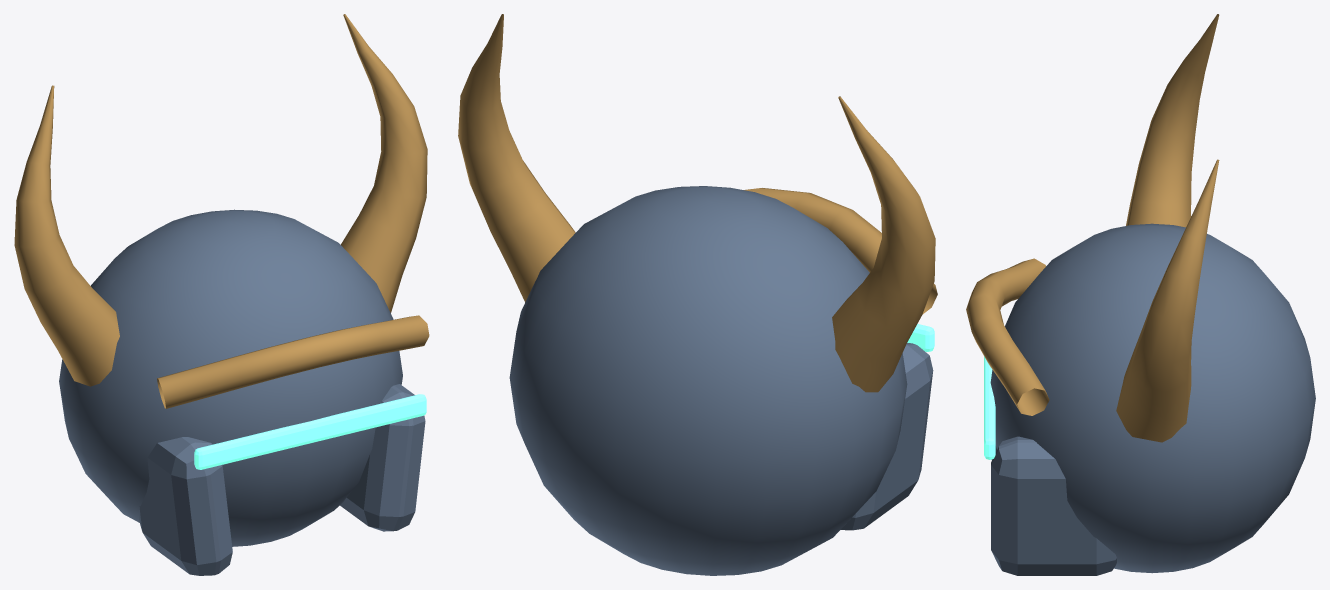
The model's file is ArmorHead.fbx.
The picture shows the model from 3 angles, left to right: view 1: azimuth 30°, elevation 25°; view 2: azimuth 150°, elevation 25°; view 3: azimuth 270°, elevation 25°; orthographic projection. The views are drawn at different scales.
Parts seen in each view (by area): view 1: Helm dome_export, Swept helm wings_export, Swept helm wings.001_export, Cheek plate_export, Brow crest_export, Cheek plate.001_export, Visor slit_export; view 2: Helm dome_export, Swept helm wings_export, Swept helm wings.001_export, Cheek plate_export, Brow crest_export; view 3: Helm dome_export, Cheek plate.001_export, Swept helm wings.001_export, Swept helm wings_export, Brow crest_export, Visor slit_export.
Part boxes in pixels (x1=…): Helm dome_export: x1=59, y1=209, x2=402, y2=546; Swept helm wings_export: x1=14, y1=85, x2=119, y2=386; Swept helm wings.001_export: x1=341, y1=14, x2=427, y2=312; Cheek plate_export: x1=139, y1=437, x2=232, y2=575; Brow crest_export: x1=157, y1=315, x2=429, y2=408; Cheek plate.001_export: x1=340, y1=384, x2=425, y2=531; Visor slit_export: x1=194, y1=394, x2=426, y2=469; Helm dome_export: x1=509, y1=186, x2=907, y2=575; Swept helm wings_export: x1=832, y1=96, x2=935, y2=392; Swept helm wings.001_export: x1=458, y1=14, x2=575, y2=302; Cheek plate_export: x1=841, y1=343, x2=933, y2=530; Brow crest_export: x1=744, y1=188, x2=937, y2=314; Helm dome_export: x1=990, y1=223, x2=1315, y2=573; Cheek plate.001_export: x1=991, y1=436, x2=1116, y2=575; Swept helm wings.001_export: x1=1116, y1=159, x2=1219, y2=442; Swept helm wings_export: x1=1126, y1=14, x2=1219, y2=227; Brow crest_export: x1=966, y1=258, x2=1049, y2=415; Visor slit_export: x1=984, y1=356, x2=995, y2=459.
Size of the model in its own units: 181 by 196 by 132.
